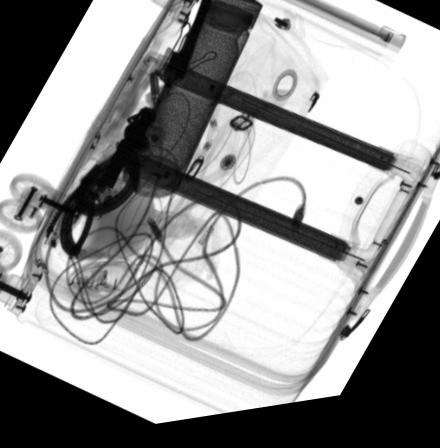Gun: (157, 0, 217, 85)
HandCuffs: (40, 105, 158, 259)
